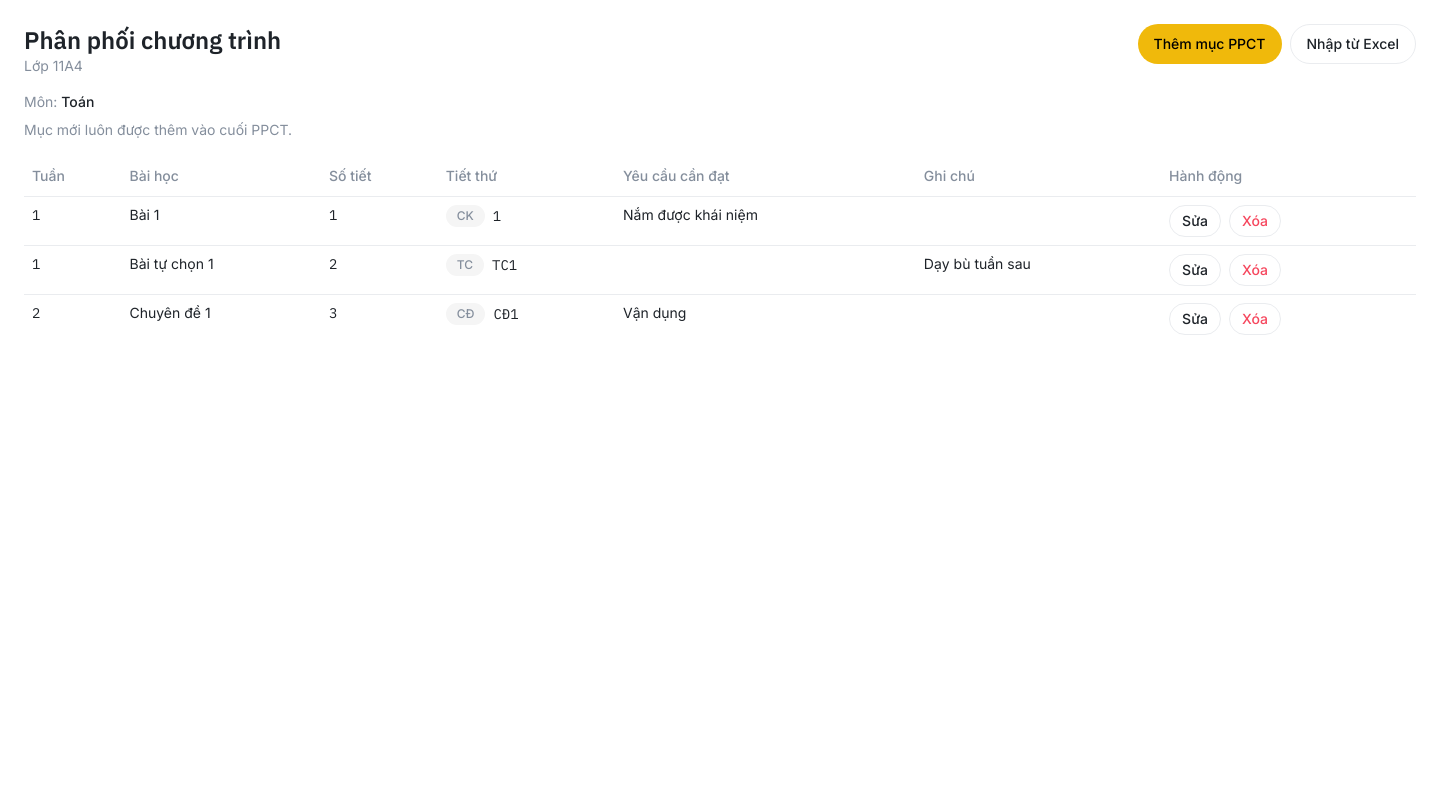
thêm / sửa qua hộp thoại › Sửa ở dòng thứ hai điền sẵn đúng dữ liệu dòng đó và lưu bằng itemId của dòng đó
Click the button "Sửa" in the row of "Bài tự chọn 1" at coordinates (1195, 270), box left=1169, top=254, right=1221, bottom=286
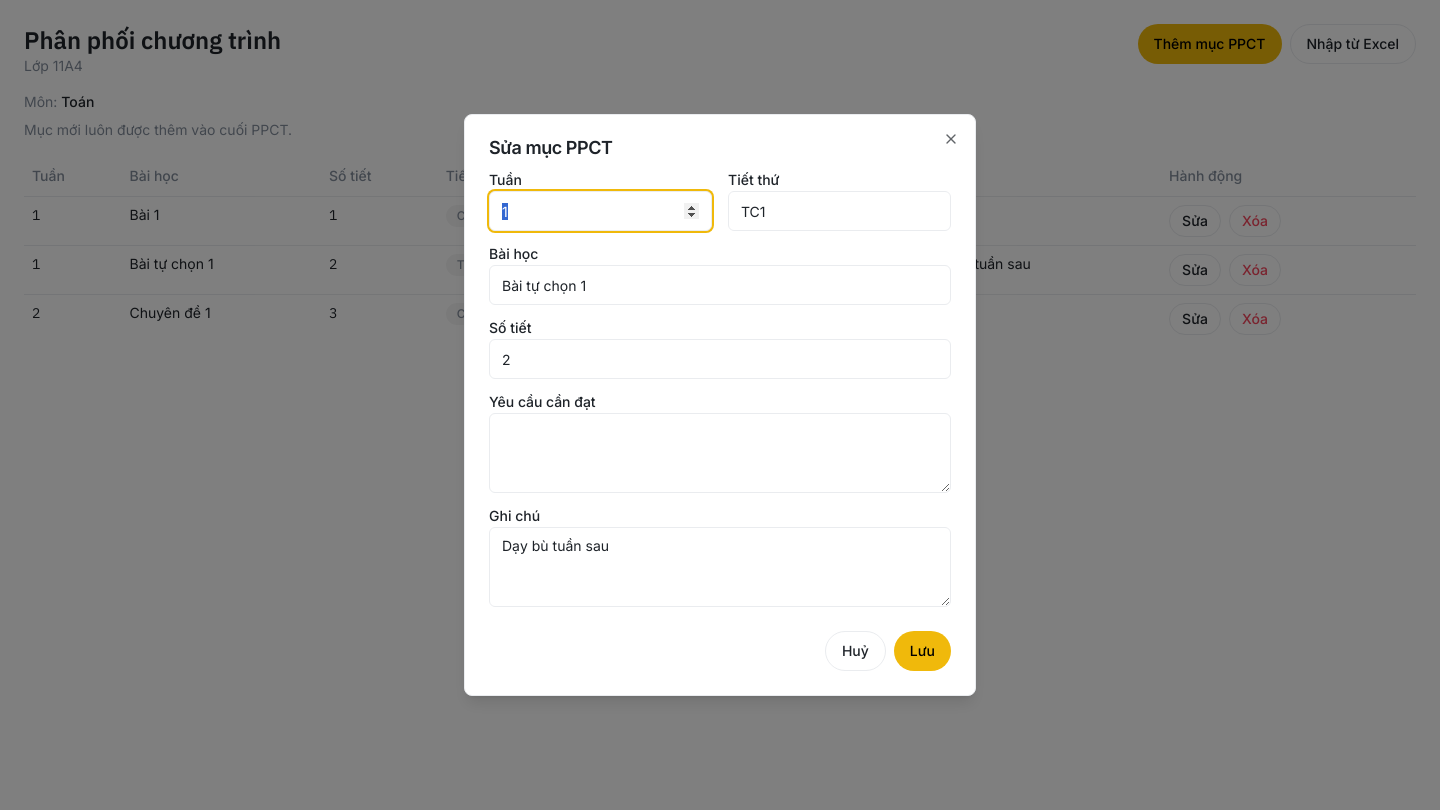
Check: the field labelled "Bài học" holds "Bài tự chọn 1", box left=489, top=265, right=951, bottom=305
Check: the text box labelled "Ghi chú" holds "Dạy bù tuần sau"
Clear the text box labelled "Ghi chú" at coordinates (720, 567), box left=489, top=527, right=951, bottom=607
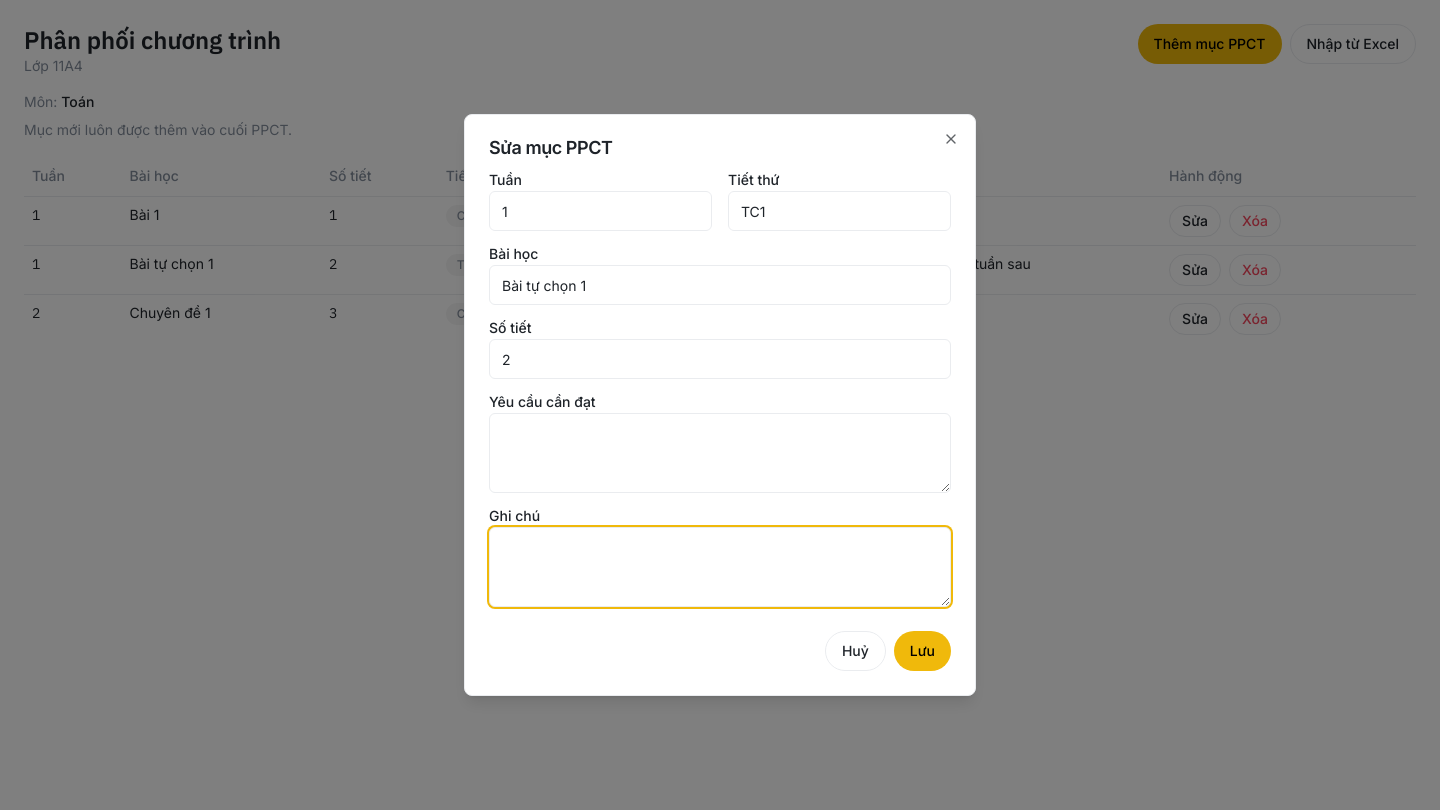
Click the button "Lưu" at coordinates (922, 651), box left=894, top=631, right=951, bottom=671
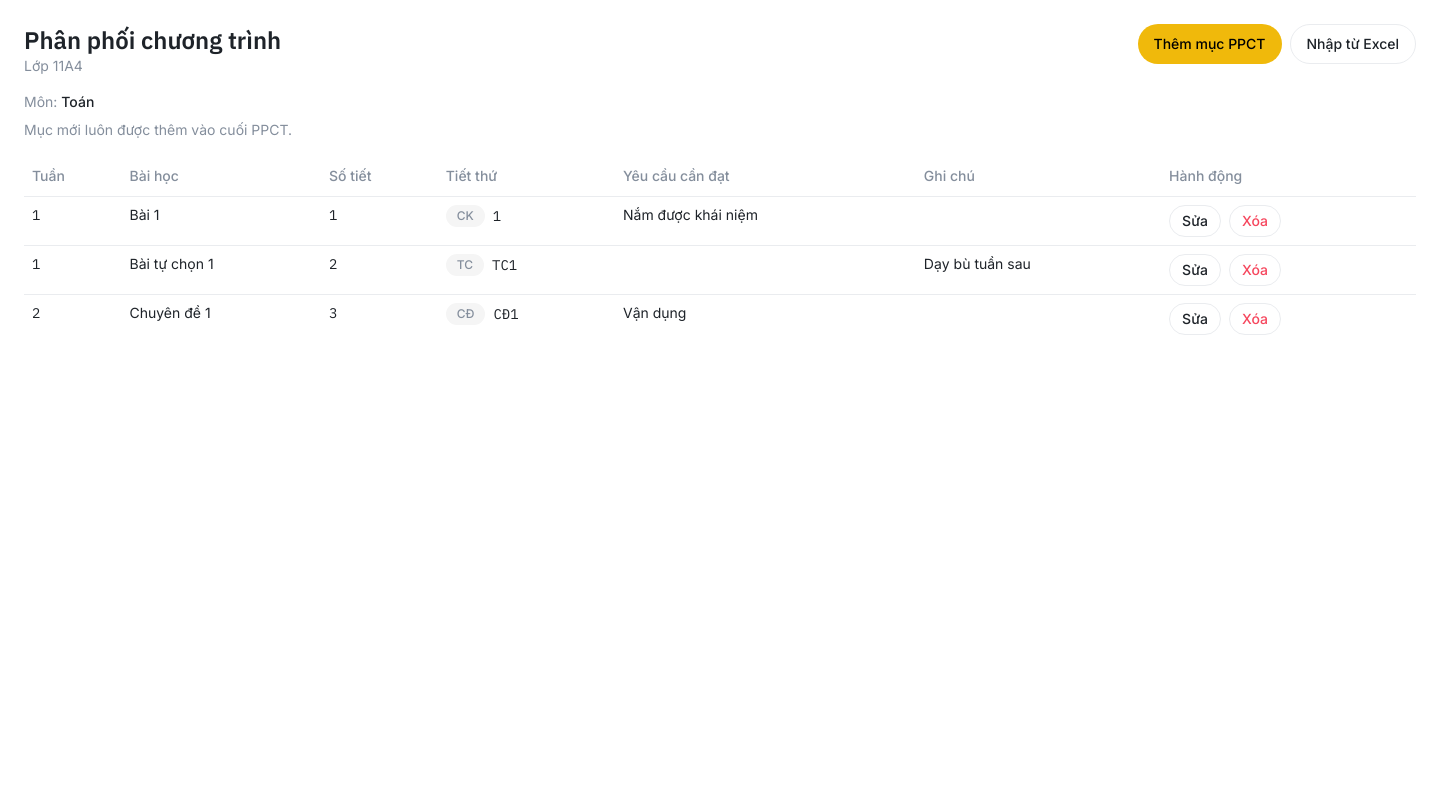
Check: the dialog is gone
